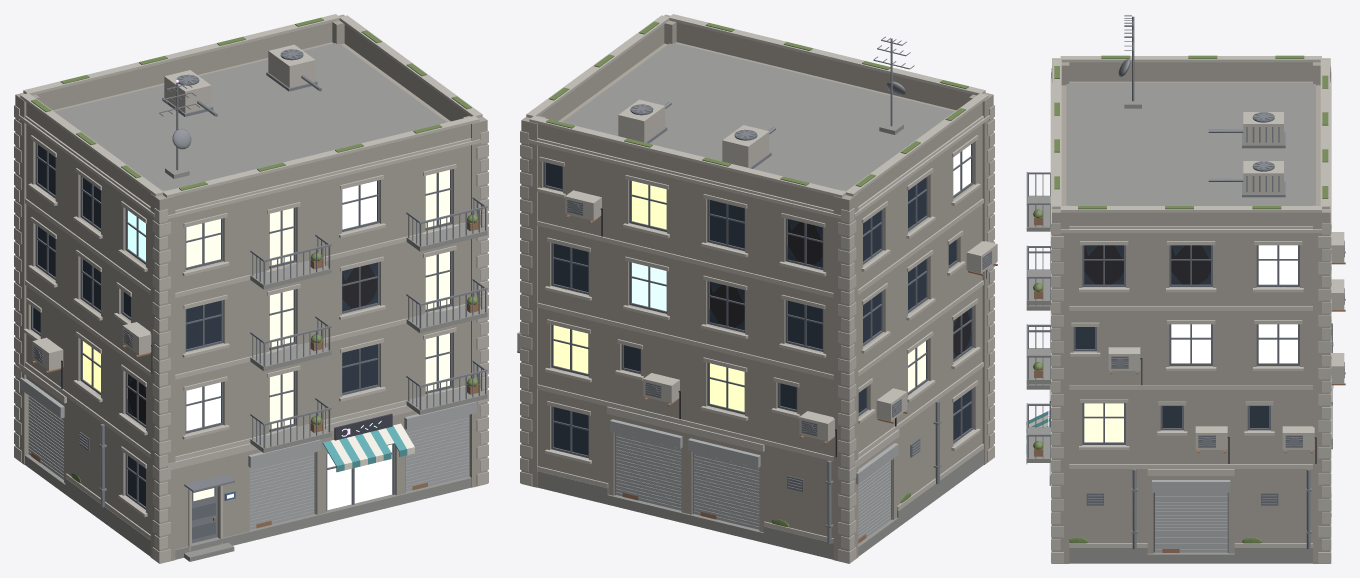
Rendered from building_apart_4f.glb.
3 renders of one model, left to right at view 1: azimuth 30°, elevation 25°; view 2: azimuth 150°, elevation 25°; view 3: azimuth 270°, elevation 25°, orthographic. The views are drawn at different scales.
Visible parts, largest first — view 1: building_apart_4f; view 2: building_apart_4f; view 3: building_apart_4f.
Boxes of the visible parts, x1,y1,x2,y2 form: building_apart_4f: [14, 14, 488, 563]; building_apart_4f: [517, 14, 997, 563]; building_apart_4f: [1026, 14, 1345, 563].
Size of what is drawn, in the model's own units: 13.64 by 16.1 by 11.
